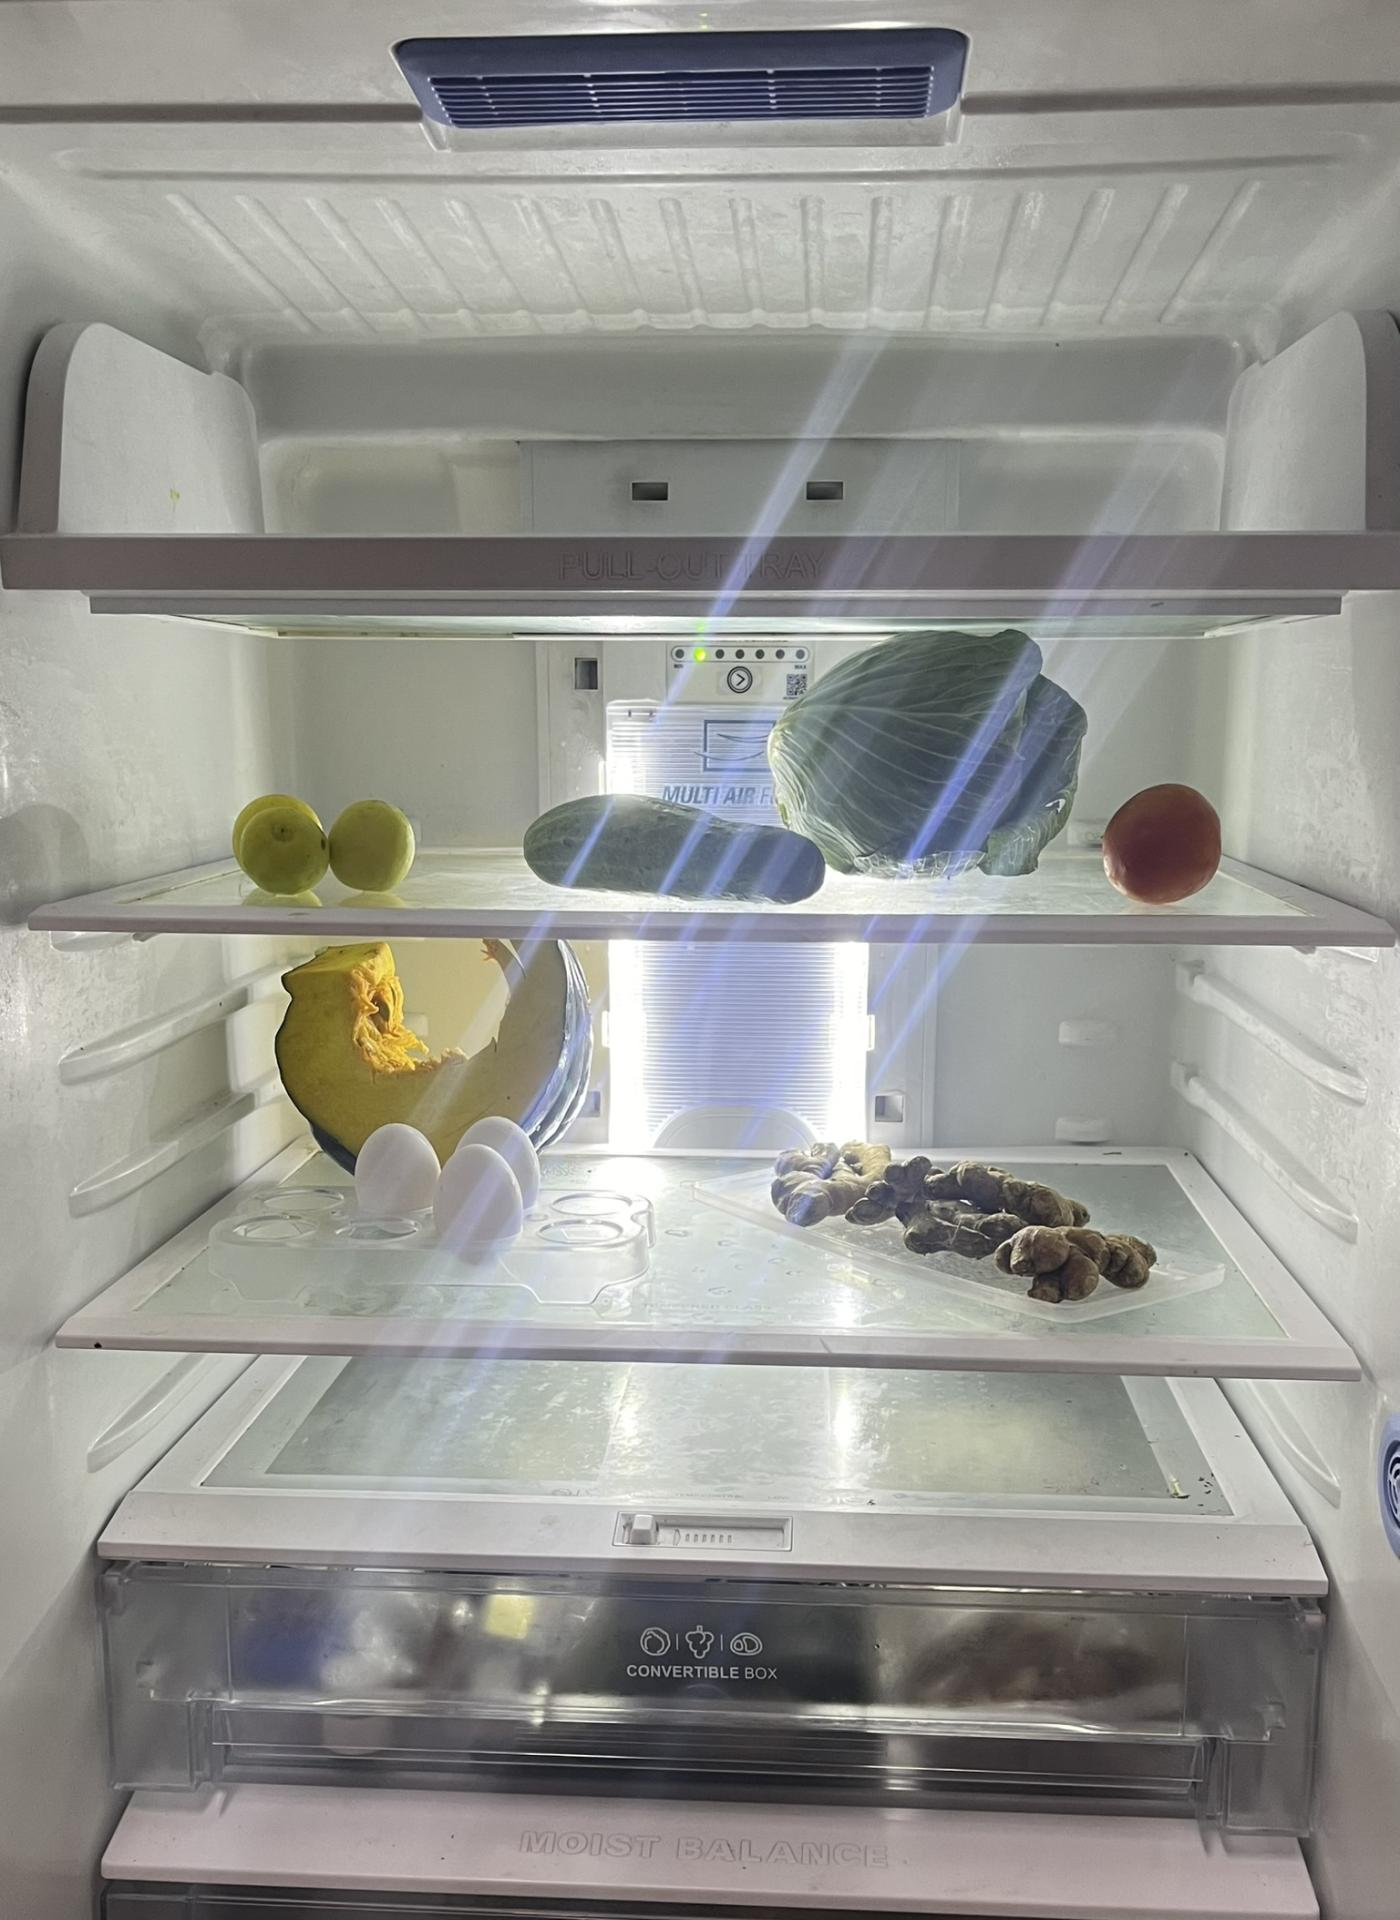cabbage: (768, 629, 1084, 877)
cucumber: (526, 796, 824, 906)
egg: (358, 1114, 543, 1264)
ginger: (772, 1139, 1142, 1297)
lemon: (236, 793, 413, 893)
pumpkin: (273, 938, 587, 1188)
tomato: (1105, 784, 1221, 902)
